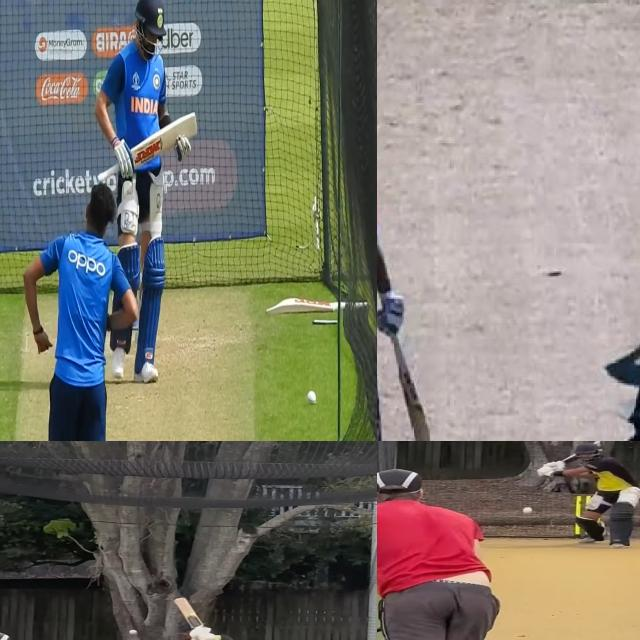Cricket ball: (305, 388, 319, 408), (521, 506, 535, 516), (127, 628, 139, 636)
